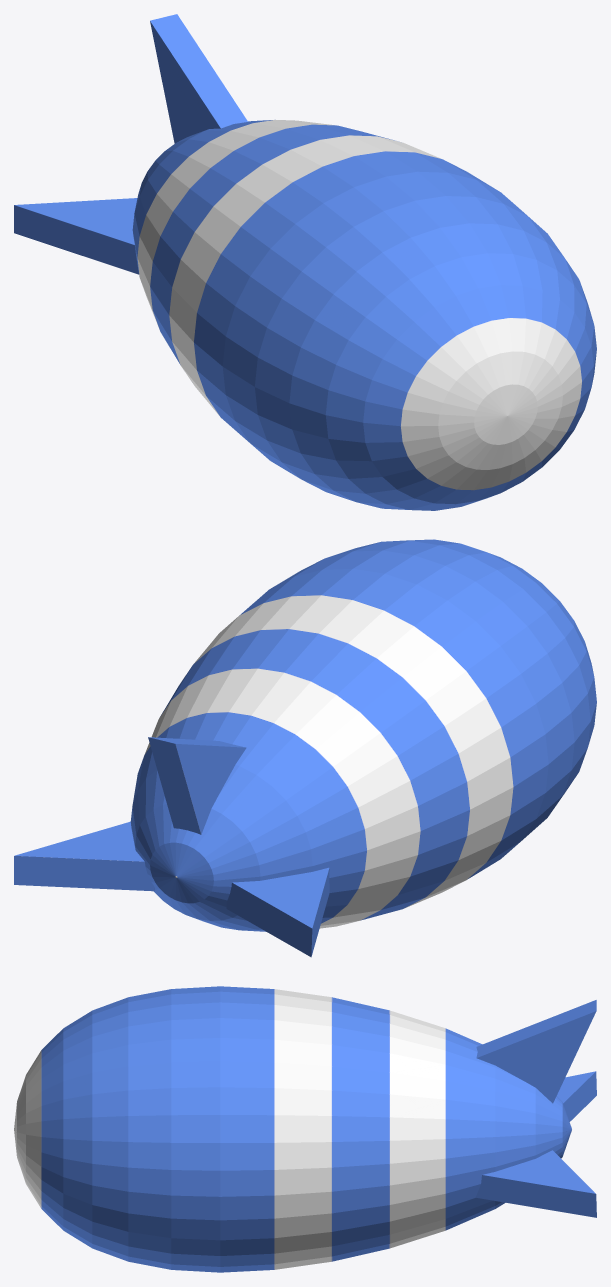
The model's file is MOAB.fbx.
3 views of the same model, one above another, from view 1: azimuth 30°, elevation 25°; view 2: azimuth 150°, elevation 25°; view 3: azimuth 270°, elevation 25° (orthographic). The views are drawn at different scales.
Parts seen in each view (by area): view 1: M.O.A.B; view 2: M.O.A.B; view 3: M.O.A.B.
Part boxes in pixels (left/top/right/bottom): M.O.A.B: left=14, top=14, right=596, bottom=510; M.O.A.B: left=14, top=539, right=596, bottom=957; M.O.A.B: left=14, top=986, right=596, bottom=1272.
Bounding box in the file's own units: 191 × 168 × 349.
